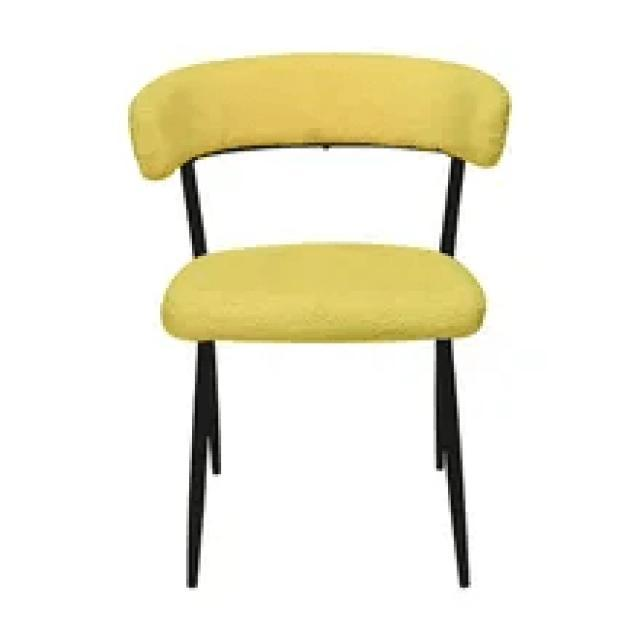chair: (128, 48, 517, 590), (127, 51, 513, 343)
